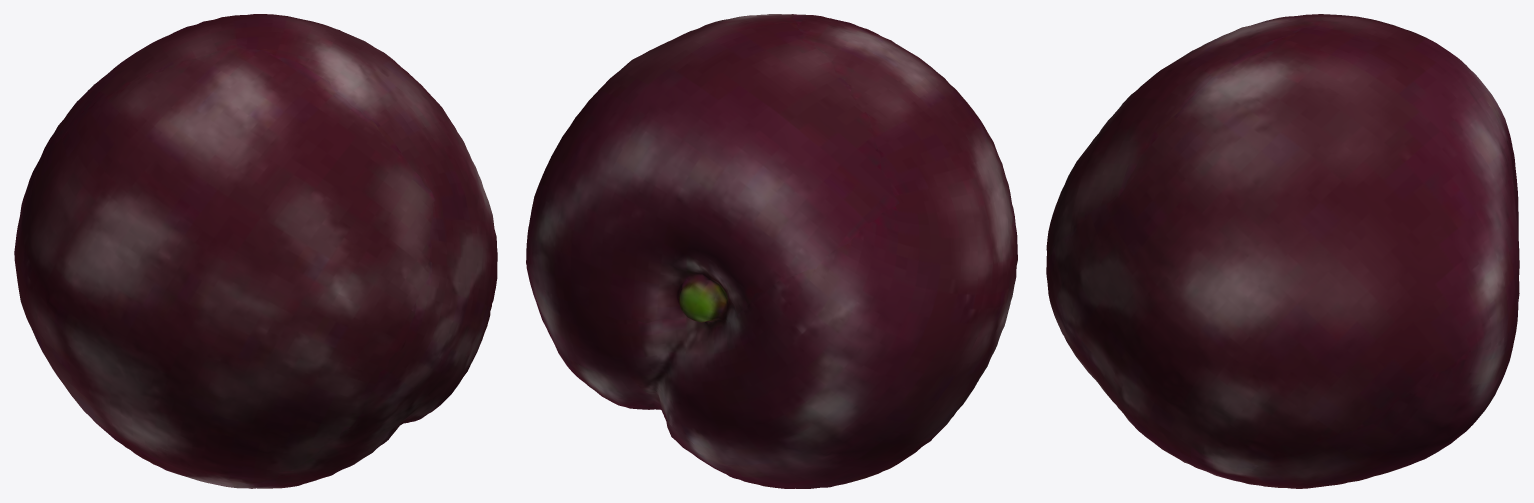
File: ddg-ycb_018_plum.glb
3 renders of one model, left to right at view 1: azimuth 30°, elevation 25°; view 2: azimuth 150°, elevation 25°; view 3: azimuth 270°, elevation 25°, orthographic. The views are drawn at different scales.
Visible parts, largest first — view 1: textured(Clone); view 2: textured(Clone); view 3: textured(Clone).
Part boxes in pixels (<box>): textured(Clone): <box>14,14,497,488</box>; textured(Clone): <box>526,14,1017,488</box>; textured(Clone): <box>1046,14,1519,488</box>.
Bounding box in the file's own units: 1.77 × 1.7 × 1.64.
Materials: 1 (1 with a texture image).
